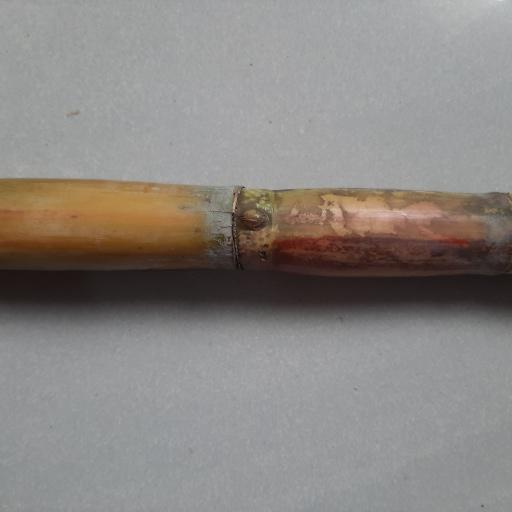Bud: (235, 207, 270, 231)
